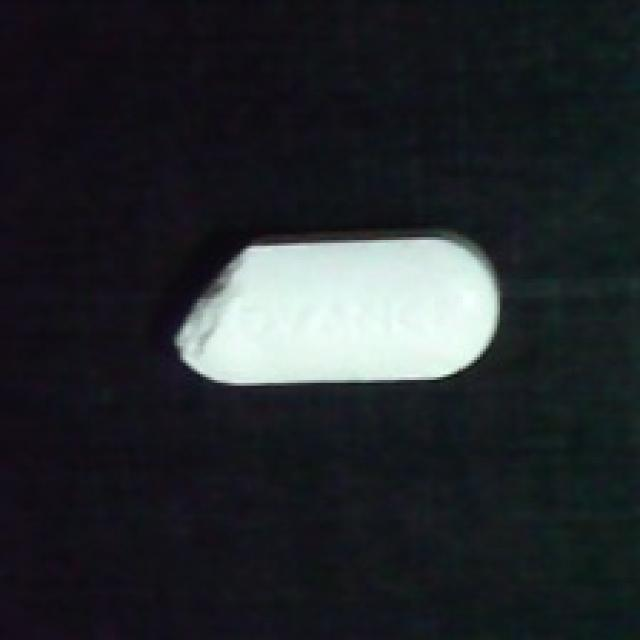defected: (163, 223, 506, 394)
